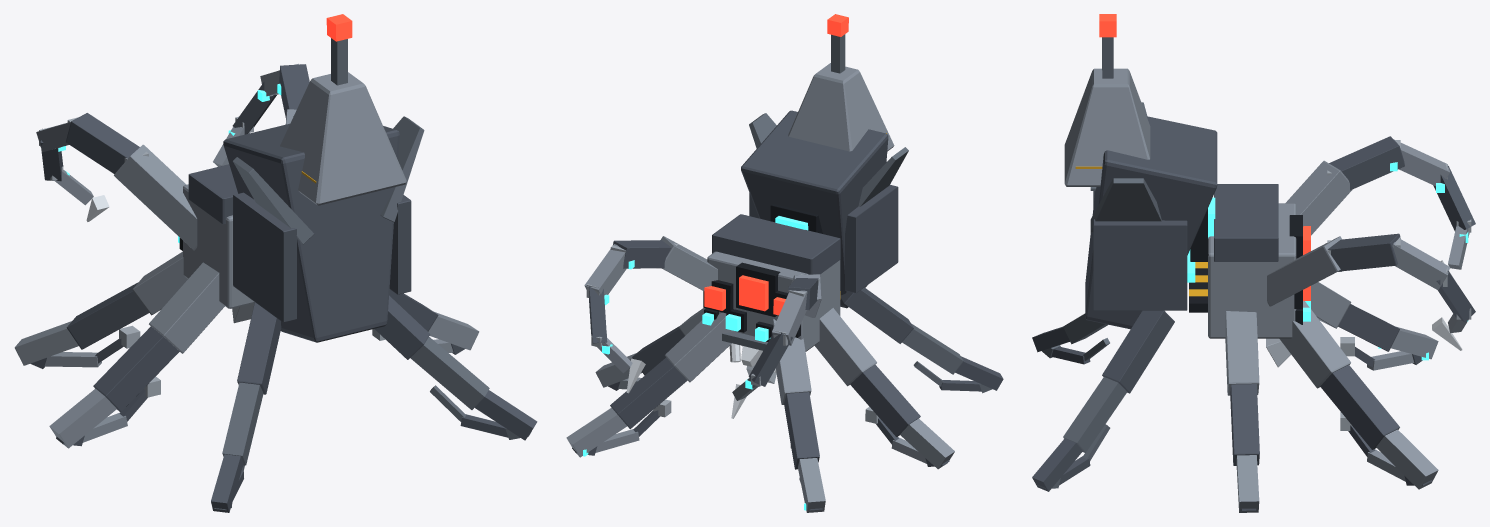
The model's file is mecha-krakenoid.glb.
3 views of the same model, side by side, from view 1: azimuth 30°, elevation 25°; view 2: azimuth 150°, elevation 25°; view 3: azimuth 270°, elevation 25° (orthographic). The views are drawn at different scales.
Parts seen in each view (by area): view 1: body, leg.BR, arm.R, leg.FR, head, arm.L, leg.BL; view 2: body, head, leg.FL, leg.BR, arm.L, leg.FR, arm.R, leg.BL; view 3: body, head, leg.FL, arm.R, arm.L, leg.BL, leg.FR.
Part boxes in pixels (<box>): body: <box>211,14,537,512</box>; leg.BR: <box>49,262,224,448</box>; arm.R: <box>36,113,197,250</box>; leg.FR: <box>14,251,187,368</box>; head: <box>178,164,254,323</box>; arm.L: <box>213,63,309,166</box>; leg.BL: <box>372,289,479,354</box>; body: <box>741,14,1003,393</box>; head: <box>702,214,840,383</box>; leg.FL: <box>566,312,734,457</box>; leg.BR: <box>814,308,954,469</box>; arm.L: <box>584,236,717,393</box>; leg.FR: <box>773,318,825,512</box>; arm.R: <box>731,274,821,418</box>; leg.BL: <box>595,308,705,390</box>; body: <box>1032,14,1217,491</box>; head: <box>1208,184,1310,367</box>; leg.FL: <box>1279,301,1438,489</box>; arm.R: <box>1285,136,1475,279</box>; arm.L: <box>1267,233,1475,350</box>; leg.BL: <box>1225,311,1259,512</box>; leg.FR: <box>1311,282,1438,370</box>.
Bounding box in the file's own units: 1.02 × 1 × 0.9927.
